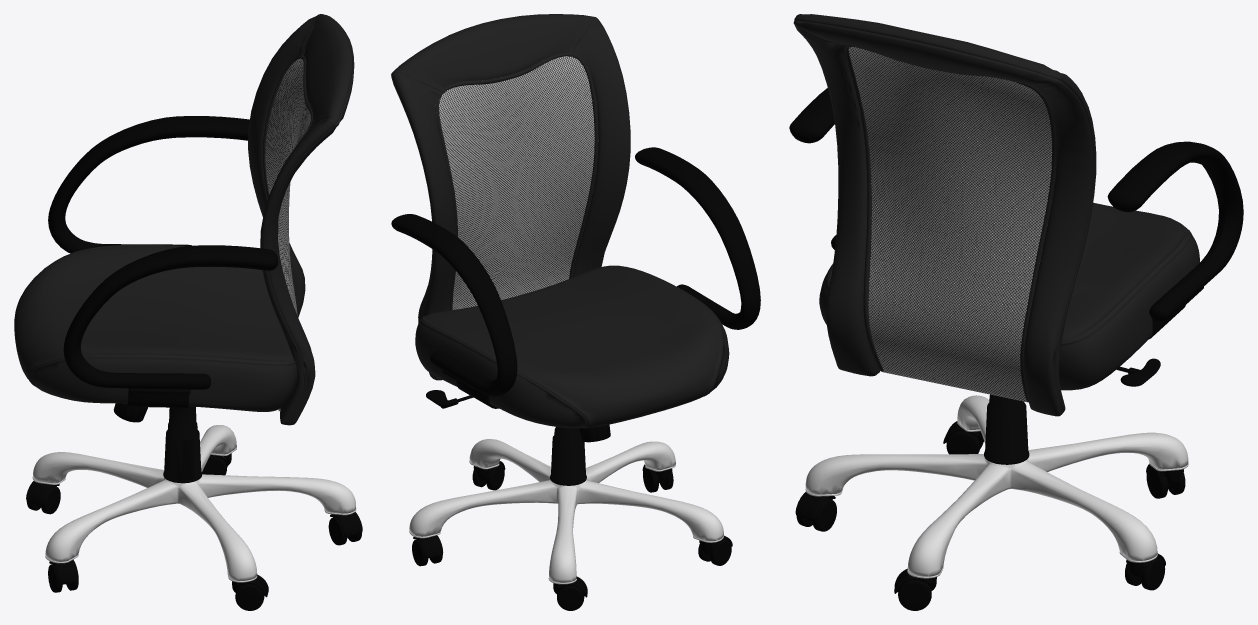
Rendered from office-chair.glb.
The picture shows the model from 3 angles, left to right: view 1: azimuth 30°, elevation 25°; view 2: azimuth 150°, elevation 25°; view 3: azimuth 270°, elevation 25°; orthographic projection. The views are drawn at different scales.
Parts seen in each view (by area): view 1: Box01_Lether_0; view 2: Box01_Lether_0; view 3: Box01_Lether_0.
Part boxes in pixels (bbox=[...]): Box01_Lether_0: bbox=[14, 14, 362, 610]; Box01_Lether_0: bbox=[391, 14, 760, 610]; Box01_Lether_0: bbox=[789, 14, 1243, 610].
Bounding box in the file's own units: 1.02 × 1.47 × 1.06.
5 materials, 1 textured.
